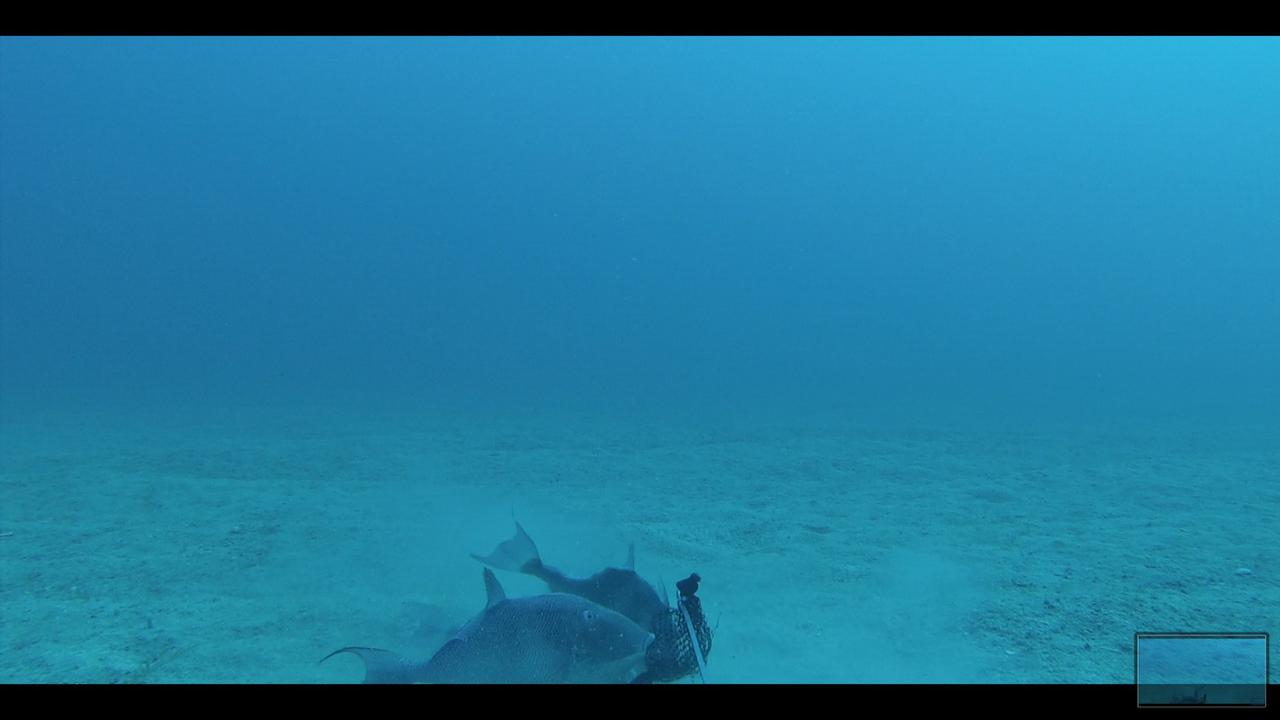balistes: (310, 562, 655, 684), (465, 504, 673, 634)
